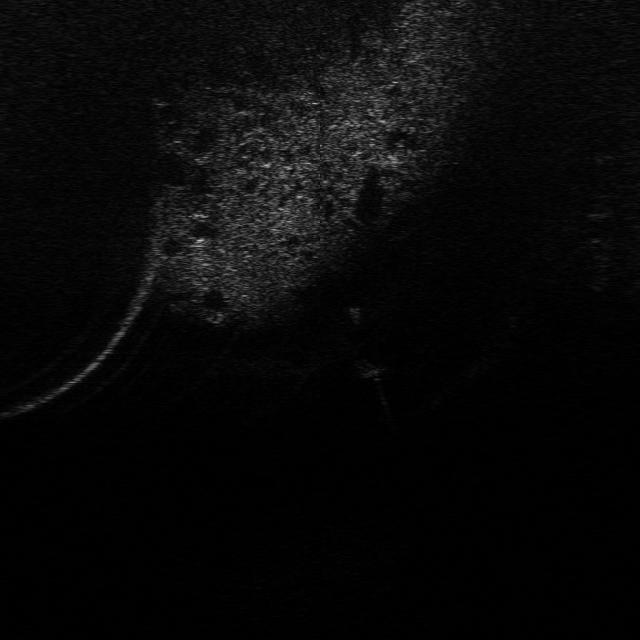cube: (353, 356, 392, 381)
cylinder: (341, 303, 368, 332)
